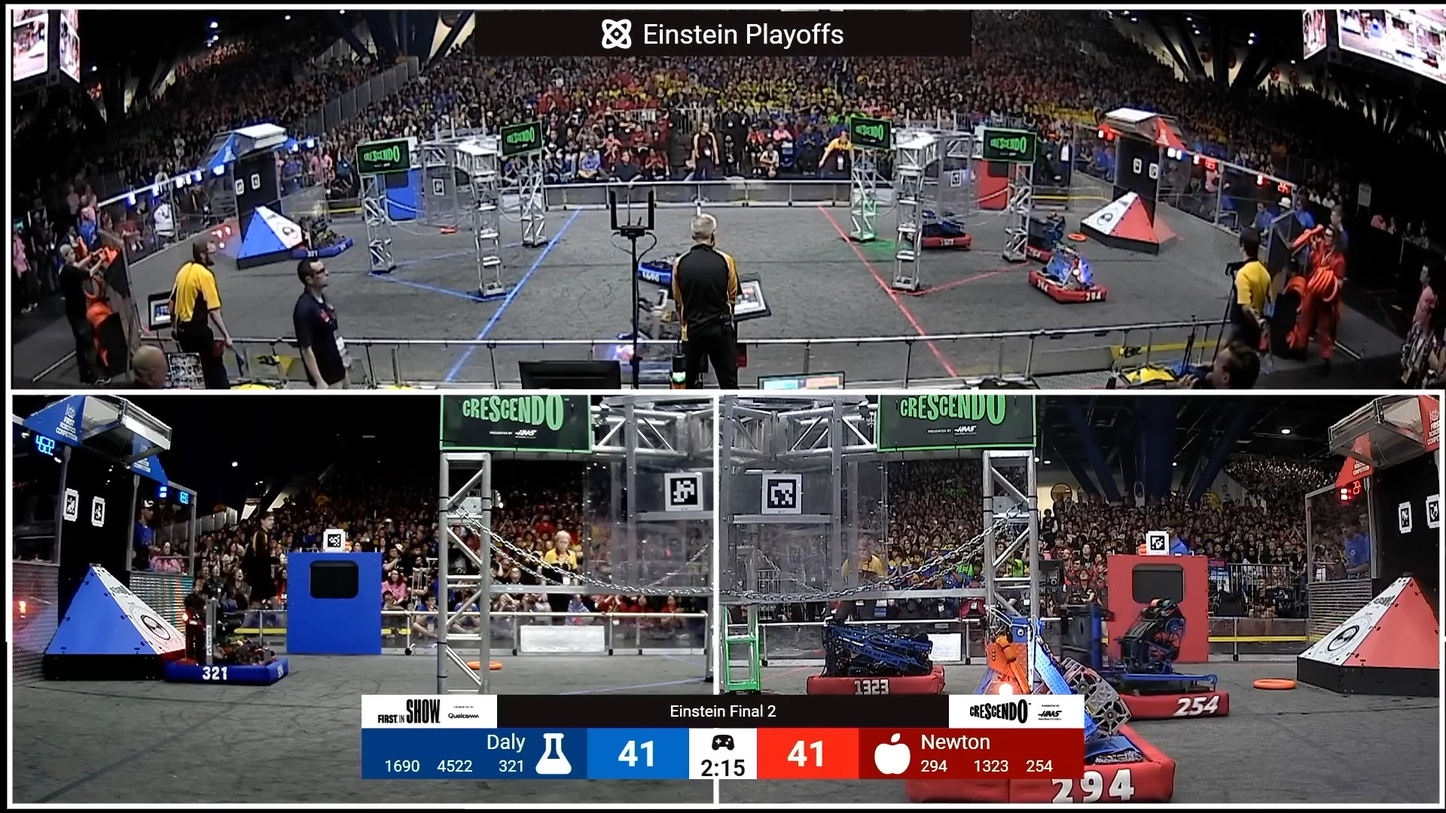bumpers: (913, 723, 1181, 802), (1084, 665, 1232, 729), (159, 649, 303, 692), (801, 661, 950, 691), (1022, 263, 1113, 307), (894, 220, 976, 255), (630, 256, 709, 290), (290, 237, 354, 261), (1013, 238, 1072, 262)
